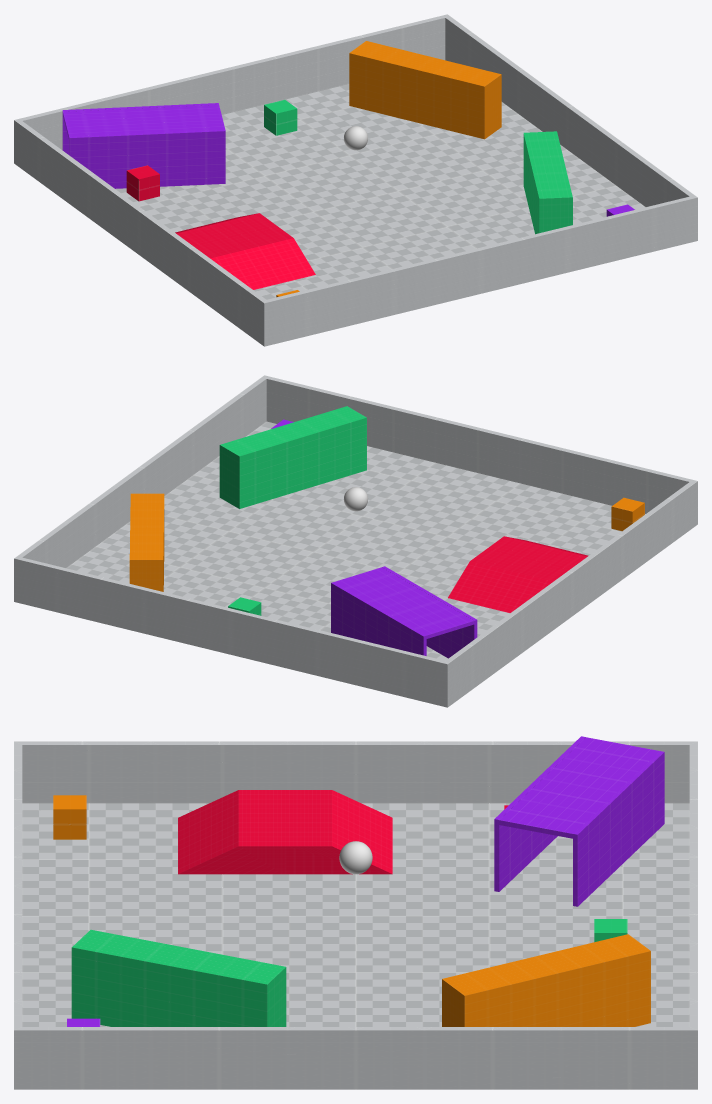
File: KenneyPlayground.glb
3 views of the same model, one above another, from view 1: azimuth 30°, elevation 25°; view 2: azimuth 150°, elevation 25°; view 3: azimuth 270°, elevation 25° (orthographic). The views are drawn at different scales.
Parts seen in each view (by area): view 1: Walls, Ground, MiniWallYellow, MiniWallPurple.001, Ramp, MiniWallGreen, MiniWallPurple.002, Ramp1, CubeRed2, CubeGreen, MiniWallPurple; view 2: Walls, Ground, MiniWallGreen, Ramp1, MiniWallPurple.002, MiniWallPurple, MiniWallYellow, Ramp, MiniWallPurple.001, CubeYellow; view 3: Ground, Walls, MiniWallGreen, MiniWallYellow, Ramp, MiniWallPurple.002, Ramp1, MiniWallPurple, MiniWallPurple.001, CubeYellow, Sphere, CubeGreen.
Part boxes in pixels (x1,y1,x2,y2): Walls: (14,14,697,346); Ground: (115,84,645,299); MiniWallYellow: (349,41,501,139); MiniWallPurple.001: (69,129,225,188); Ramp: (193,225,315,289); MiniWallGreen: (523,131,572,234); MiniWallPurple.002: (63,104,224,139); Ramp1: (175,213,276,245); CubeRed2: (126,165,159,201); CubeGreen: (264,99,297,135); MiniWallPurple: (62,103,218,154); Walls: (14,375,697,707); Ground: (66,421,645,660); MiniWallGreen: (219,406,366,508); Ramp1: (448,549,569,612); MiniWallPurple.002: (335,567,474,638); MiniWallPurple: (331,582,426,655); MiniWallYellow: (129,493,164,591); Ramp: (487,536,588,568); MiniWallPurple.001: (382,566,477,658); CubeYellow: (611,497,644,531); Ground: (22,803,689,1026); Walls: (14,741,697,1089); MiniWallGreen: (71,929,286,1026); MiniWallYellow: (442,934,650,1026); Ramp: (178,790,285,874); MiniWallPurple.002: (499,737,659,838); Ramp1: (285,790,392,874); MiniWallPurple: (573,751,664,906); MiniWallPurple.001: (494,736,585,891); CubeYellow: (53,795,86,839); Sphere: (339,841,372,874); CubeGreen: (594,919,627,942).
Size of the model in its own units: 41 by 6.92 by 41.
Materials: 7 (6 with a texture image).
